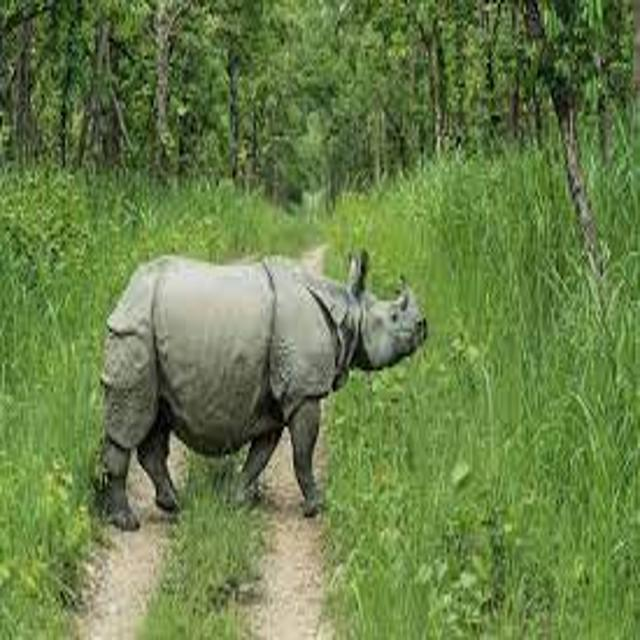rhino: (51, 206, 456, 553)
